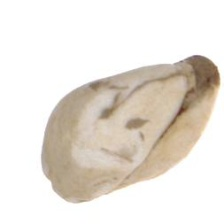L1: (173, 52, 220, 103)
L2: (39, 55, 219, 203)
